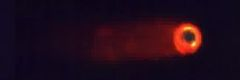keyhole: (181, 29, 197, 46)
